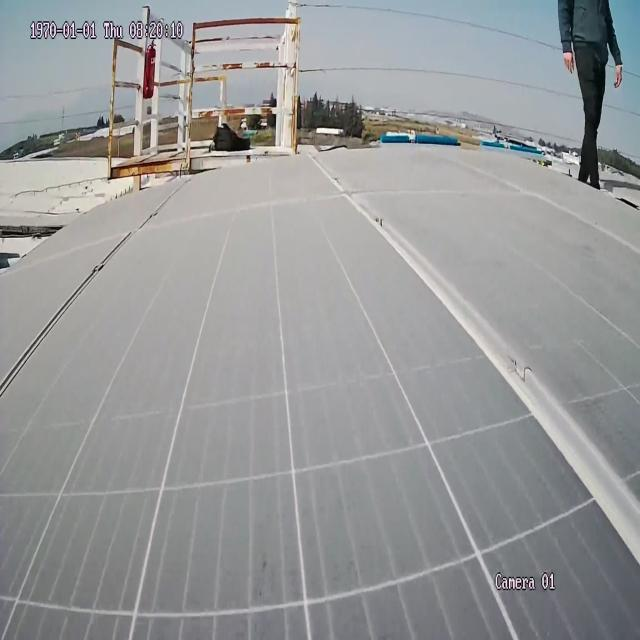interior panel: (317, 163, 640, 582), (1, 179, 181, 397)
